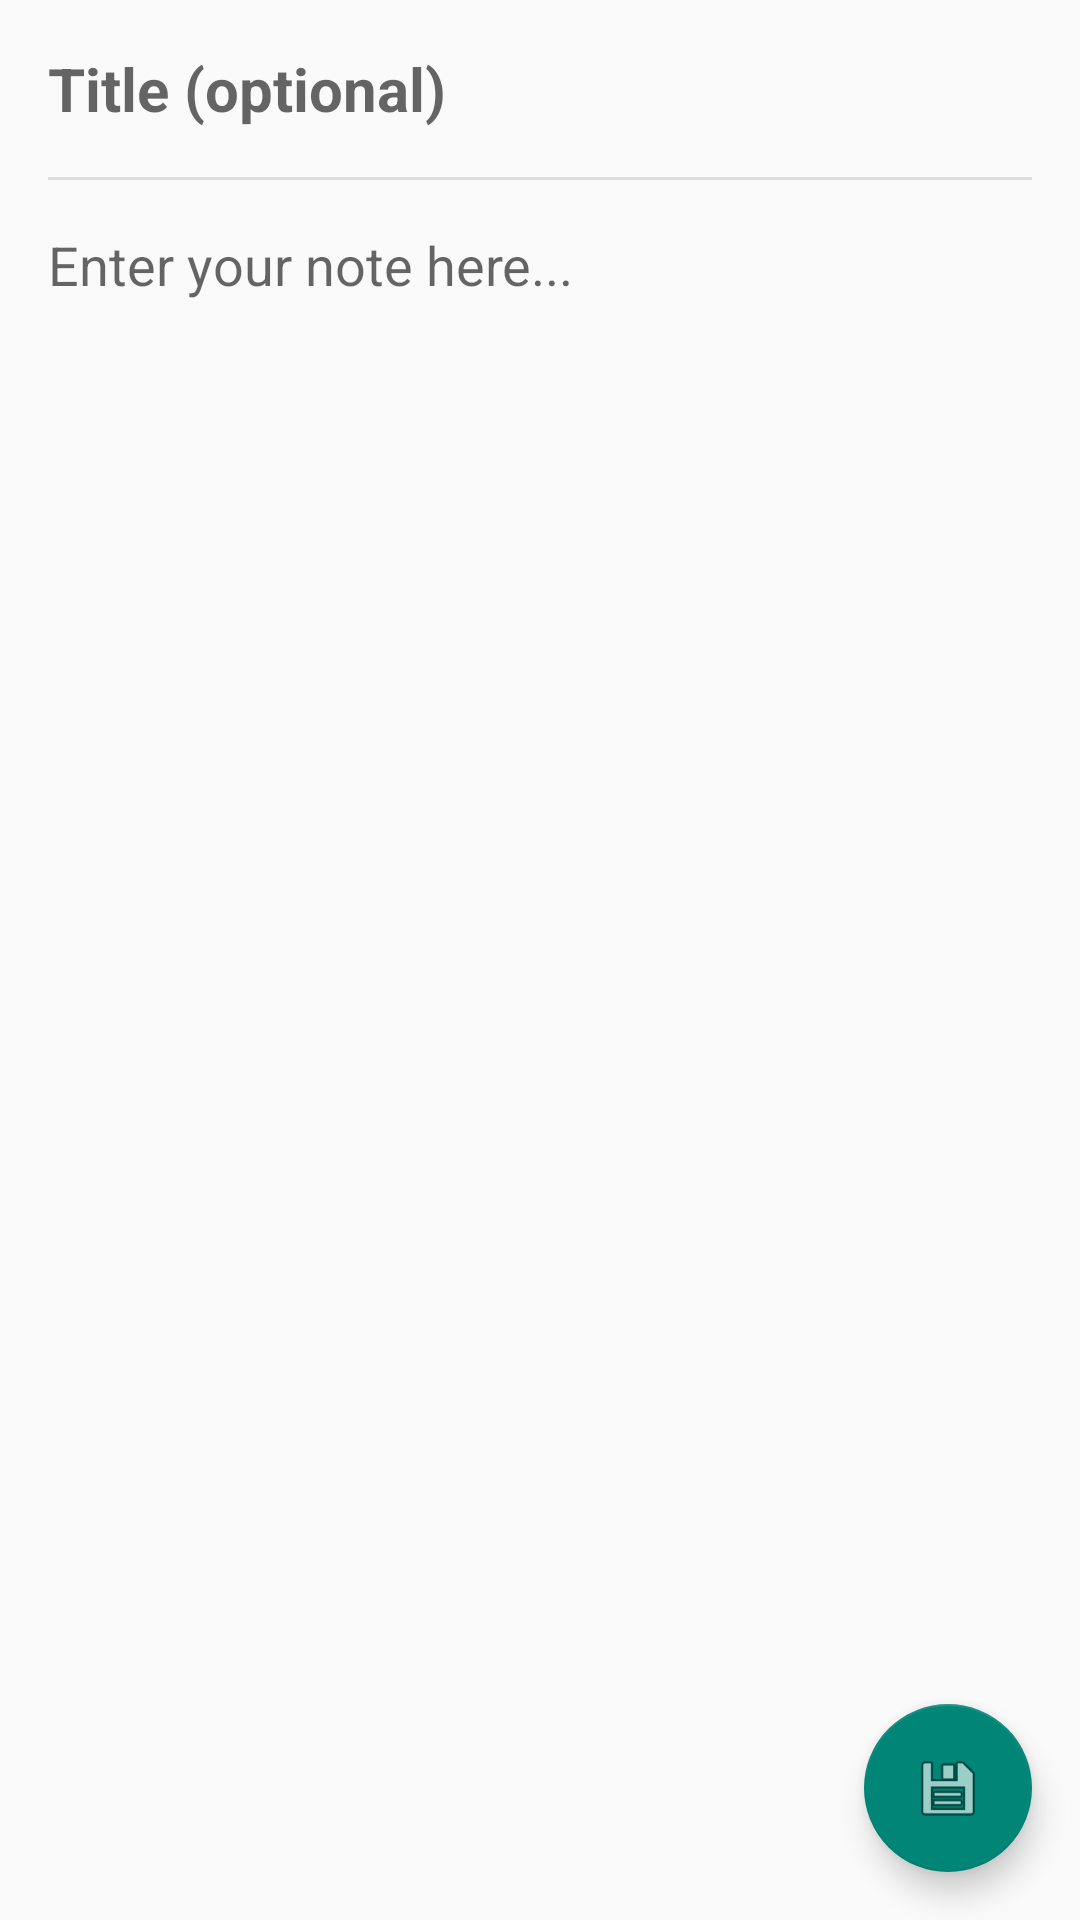

Screen size 1080w x 1920h. Icon name, then its box in pixels as (x1, y1, x2, y2):
Save note: (864, 1704, 1032, 1872)
